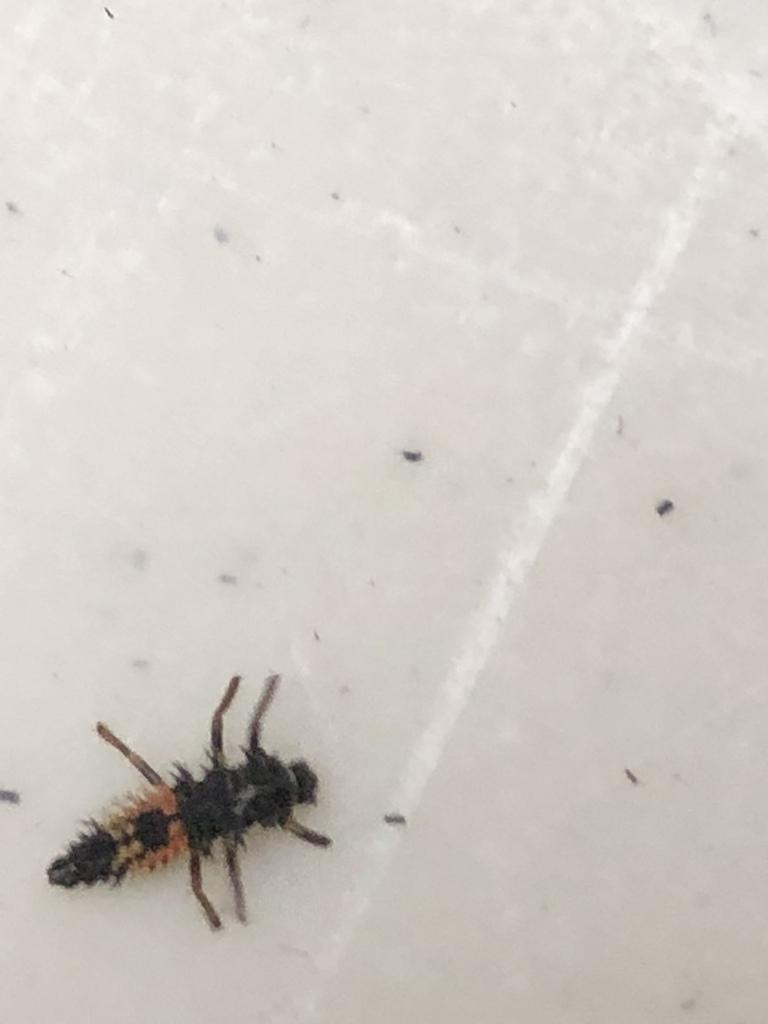ladybug: (44, 666, 341, 939)
